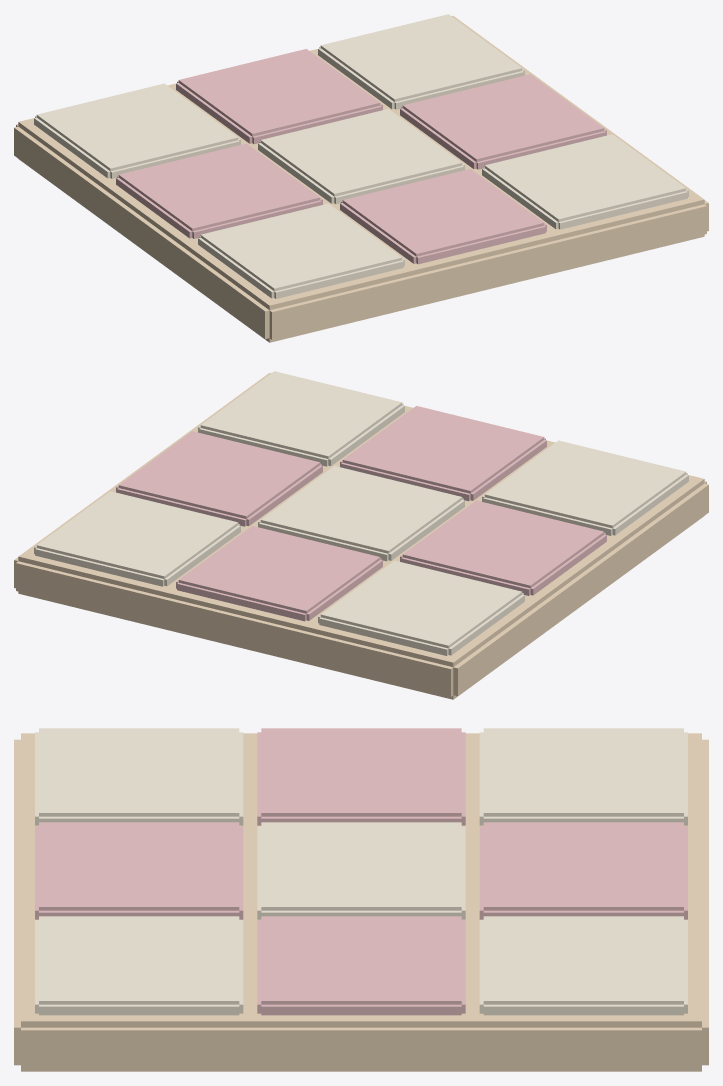
Rendered from HOB_Tile_Checker.fbx.
3 views of the same model, one above another, from view 1: azimuth 30°, elevation 25°; view 2: azimuth 150°, elevation 25°; view 3: azimuth 270°, elevation 25° (orthographic). The views are drawn at different scales.
Parts seen in each view (by area): view 1: HOB_Tile_Checker; view 2: HOB_Tile_Checker; view 3: HOB_Tile_Checker.
Part boxes in pixels (x1,y1,x2,y2): HOB_Tile_Checker: (14,14,708,342); HOB_Tile_Checker: (14,371,708,699); HOB_Tile_Checker: (14,728,708,1071).
Size of the model in its own units: 100 by 10 by 100.
